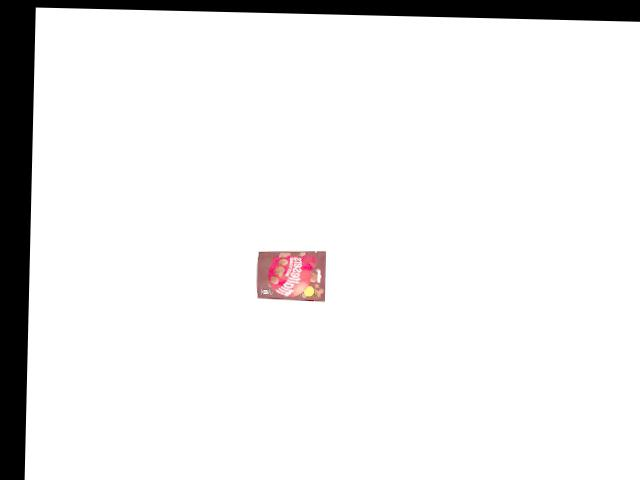chocolate: (254, 248, 327, 301)
